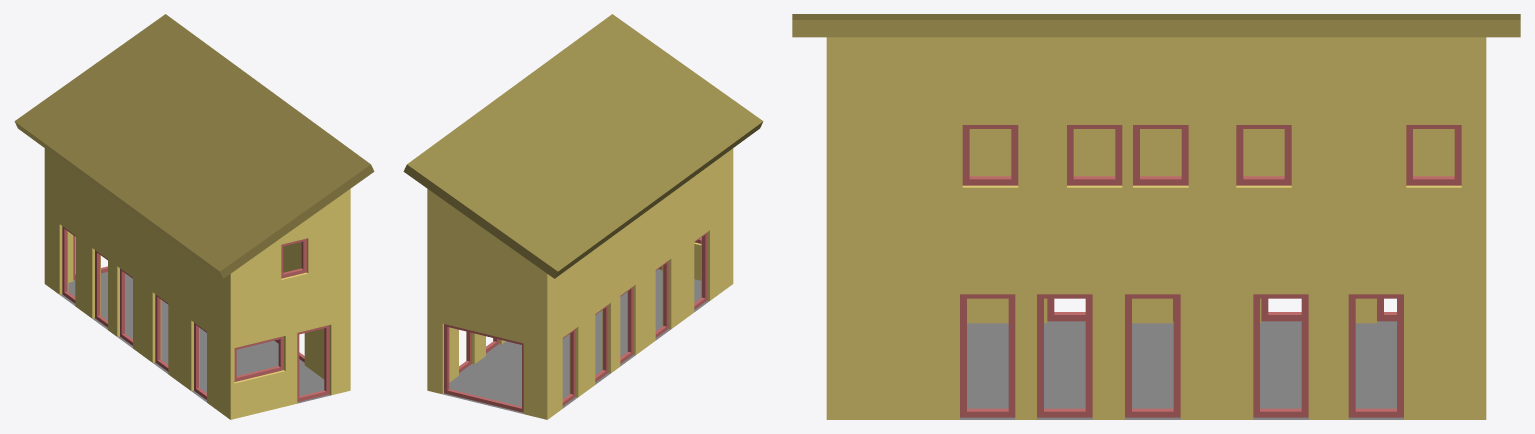
Rendered from result.glb.
3 views of the same model, side by side, from view 1: azimuth 30°, elevation 25°; view 2: azimuth 150°, elevation 25°; view 3: azimuth 270°, elevation 25° (orthographic). The views are drawn at different scales.
Parts seen in each view (by area): view 1: 72259eaf-869f-4403-872a-c12b635ff782__undefined, 4a696151-bc04-4603-bebc-98b398df6924__undefined, 707fd54c-5243-4bc8-8ef9-650bf2ce823c__Plane_24, bf0bfd37-0331-41e7-a5e9-21153049a333__Box, 629c27bd-c553-4a94-b030-6fc29cf655cf__Box_3, 5f880c6d-4062-4ffd-96e3-445102d6e0aa__Box_24, 96d6955d-b7b9-4f32-afab-26c34f032a69__Box_15, 9bbee4e7-50e6-4917-8c5f-9fdb78eb68f1__Box_12, 42c13f31-29f3-4154-bdd3-ba610f2afcbb__Box_21, b9d26438-afbb-4615-a2a7-ebc3a908068d__Box_18, f21447a1-210a-4471-9996-cef9e2c3da21__Box_6; view 2: 72259eaf-869f-4403-872a-c12b635ff782__undefined, 4a696151-bc04-4603-bebc-98b398df6924__undefined, 707fd54c-5243-4bc8-8ef9-650bf2ce823c__Plane_24, b070aaa2-1196-4dce-8f1b-d89dc4455403__Box_9, b9d26438-afbb-4615-a2a7-ebc3a908068d__Box_18, 9bbee4e7-50e6-4917-8c5f-9fdb78eb68f1__Box_12, 96d6955d-b7b9-4f32-afab-26c34f032a69__Box_15, 5f880c6d-4062-4ffd-96e3-445102d6e0aa__Box_24, 42c13f31-29f3-4154-bdd3-ba610f2afcbb__Box_21; view 3: 4a696151-bc04-4603-bebc-98b398df6924__undefined, 707fd54c-5243-4bc8-8ef9-650bf2ce823c__Plane_24, 72259eaf-869f-4403-872a-c12b635ff782__undefined, 7d56e577-d60c-4382-bfca-0c22285f11a3__Box_42, 2c1f3485-2895-42ae-a603-416a4da82d1f__Box_45, cfd0ade4-5854-4476-88f0-6fbbc3359796__Box_48, c0af905c-7e0a-40e0-aca1-0a060b8fee17__Box_51, 75923e0d-017a-4a49-8b4c-b3925aae2d83__Box_54, a698886d-25eb-4864-95d9-2eb9fc7f627f__Box_57, 91ed7519-a049-401b-b914-6af1e04da3cc__Box_66, 169d42ca-01cf-44fb-b4d7-090fc85e4f4c__Box_60, eaa2c98b-9956-49ac-b6f9-19cd2d14decf__Box_63 (+1 smaller).
Part boxes in pixels (<box>): 72259eaf-869f-4403-872a-c12b635ff782__undefined: <box>14,14,374,278</box>; 4a696151-bc04-4603-bebc-98b398df6924__undefined: <box>44,148,350,419</box>; 707fd54c-5243-4bc8-8ef9-650bf2ce823c__Plane_24: <box>60,272,330,403</box>; bf0bfd37-0331-41e7-a5e9-21153049a333__Box: <box>297,325,329,401</box>; 629c27bd-c553-4a94-b030-6fc29cf655cf__Box_3: <box>234,336,283,381</box>; 5f880c6d-4062-4ffd-96e3-445102d6e0aa__Box_24: <box>62,226,75,303</box>; 96d6955d-b7b9-4f32-afab-26c34f032a69__Box_15: <box>155,294,168,371</box>; 9bbee4e7-50e6-4917-8c5f-9fdb78eb68f1__Box_12: <box>194,322,206,399</box>; 42c13f31-29f3-4154-bdd3-ba610f2afcbb__Box_21: <box>95,250,107,327</box>; b9d26438-afbb-4615-a2a7-ebc3a908068d__Box_18: <box>120,268,132,345</box>; f21447a1-210a-4471-9996-cef9e2c3da21__Box_6: <box>281,238,306,278</box>; 72259eaf-869f-4403-872a-c12b635ff782__undefined: <box>403,14,763,278</box>; 4a696151-bc04-4603-bebc-98b398df6924__undefined: <box>427,148,733,419</box>; 707fd54c-5243-4bc8-8ef9-650bf2ce823c__Plane_24: <box>443,269,709,413</box>; b070aaa2-1196-4dce-8f1b-d89dc4455403__Box_9: <box>444,324,523,412</box>; b9d26438-afbb-4615-a2a7-ebc3a908068d__Box_18: <box>620,286,633,363</box>; 9bbee4e7-50e6-4917-8c5f-9fdb78eb68f1__Box_12: <box>694,232,707,309</box>; 96d6955d-b7b9-4f32-afab-26c34f032a69__Box_15: <box>655,261,668,337</box>; 5f880c6d-4062-4ffd-96e3-445102d6e0aa__Box_24: <box>562,329,575,405</box>; 42c13f31-29f3-4154-bdd3-ba610f2afcbb__Box_21: <box>595,305,608,381</box>; 4a696151-bc04-4603-bebc-98b398df6924__undefined: <box>826,37,1486,419</box>; 707fd54c-5243-4bc8-8ef9-650bf2ce823c__Plane_24: <box>960,321,1403,419</box>; 72259eaf-869f-4403-872a-c12b635ff782__undefined: <box>792,14,1520,37</box>; 7d56e577-d60c-4382-bfca-0c22285f11a3__Box_42: <box>960,294,1015,417</box>; 2c1f3485-2895-42ae-a603-416a4da82d1f__Box_45: <box>1037,294,1092,417</box>; cfd0ade4-5854-4476-88f0-6fbbc3359796__Box_48: <box>1125,294,1180,417</box>; c0af905c-7e0a-40e0-aca1-0a060b8fee17__Box_51: <box>1253,294,1308,417</box>; 75923e0d-017a-4a49-8b4c-b3925aae2d83__Box_54: <box>1348,294,1403,417</box>; a698886d-25eb-4864-95d9-2eb9fc7f627f__Box_57: <box>962,125,1018,185</box>; 91ed7519-a049-401b-b914-6af1e04da3cc__Box_66: <box>1236,125,1291,185</box>; 169d42ca-01cf-44fb-b4d7-090fc85e4f4c__Box_60: <box>1067,125,1122,185</box>; eaa2c98b-9956-49ac-b6f9-19cd2d14decf__Box_63: <box>1133,125,1188,185</box>.
Size of the model in its own units: 457 by 652 by 1052.
